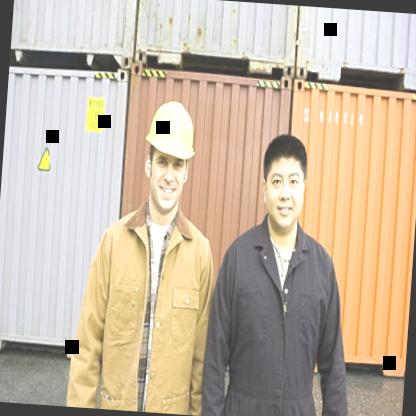head: (250, 124, 314, 234)
helmet: (139, 99, 198, 212)
